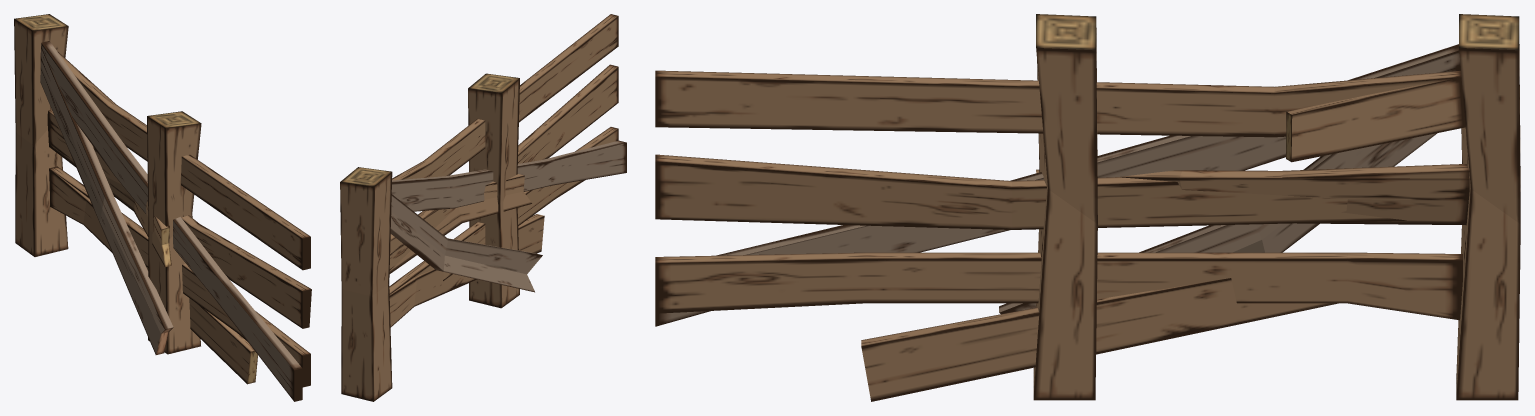
File: płoty1.fbx
3 renders of one model, left to right at view 1: azimuth 30°, elevation 25°; view 2: azimuth 150°, elevation 25°; view 3: azimuth 270°, elevation 25°, orthographic. The views are drawn at different scales.
Parts seen in each view (by area): view 1: płot1, płot1 uszkodzony, płot0; view 2: płot1, płot1 uszkodzony, płot0; view 3: płot1, płot1 uszkodzony, płot0.
Part boxes in pixels (<box>): płot1: <box>14,14,311,401</box>; płot1 uszkodzony: <box>40,46,257,384</box>; płot0: <box>147,111,201,354</box>; płot1: <box>340,14,626,401</box>; płot1 uszkodzony: <box>389,174,544,327</box>; płot0: <box>468,73,519,308</box>; płot1: <box>655,14,1520,400</box>; płot1 uszkodzony: <box>861,77,1469,401</box>; płot0: <box>1033,14,1097,400</box>.
Size of the model in its own units: 31.12 by 131 by 285.
